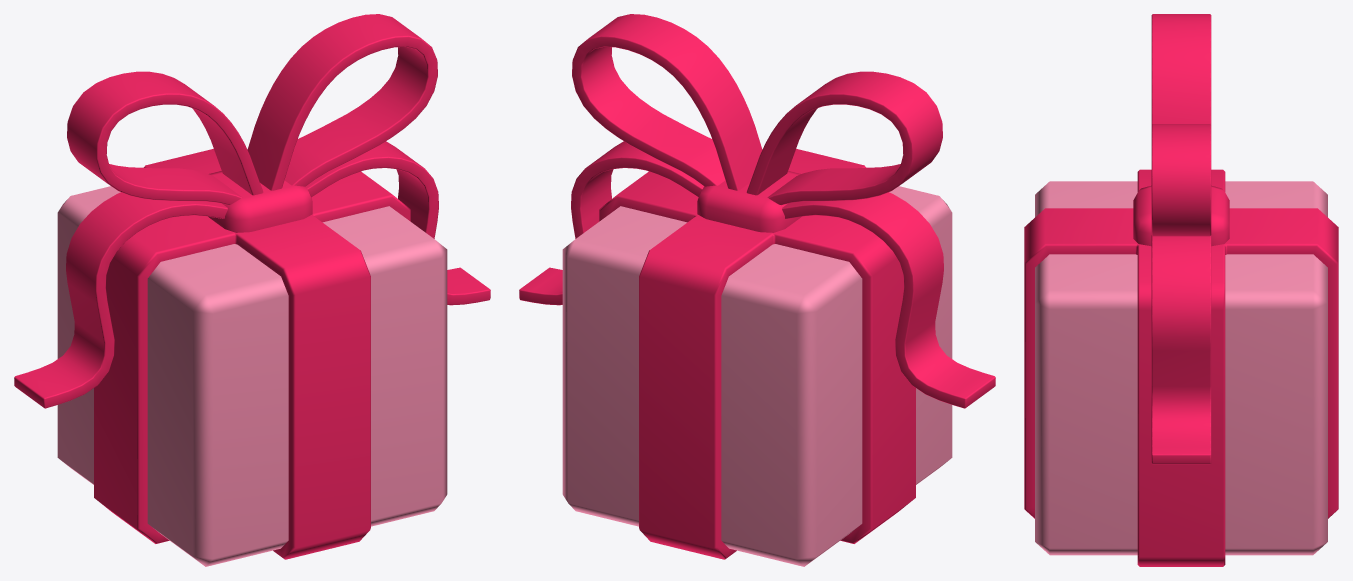
The model's file is Public_6_Present_1.glb.
The picture shows the model from 3 angles, left to right: view 1: azimuth 30°, elevation 25°; view 2: azimuth 150°, elevation 25°; view 3: azimuth 270°, elevation 25°; orthographic projection. The views are drawn at different scales.
Visible parts, largest first — view 1: Public_6_Present_1; view 2: Public_6_Present_1; view 3: Public_6_Present_1.
Part boxes in pixels (left/top/right/bottom): Public_6_Present_1: left=14, top=14, right=490, bottom=566; Public_6_Present_1: left=519, top=14, right=995, bottom=566; Public_6_Present_1: left=1024, top=14, right=1338, bottom=566.
Size of the model in its own units: 1.71 by 1.62 by 1.07.
Materials: 1 (1 with a texture image).
